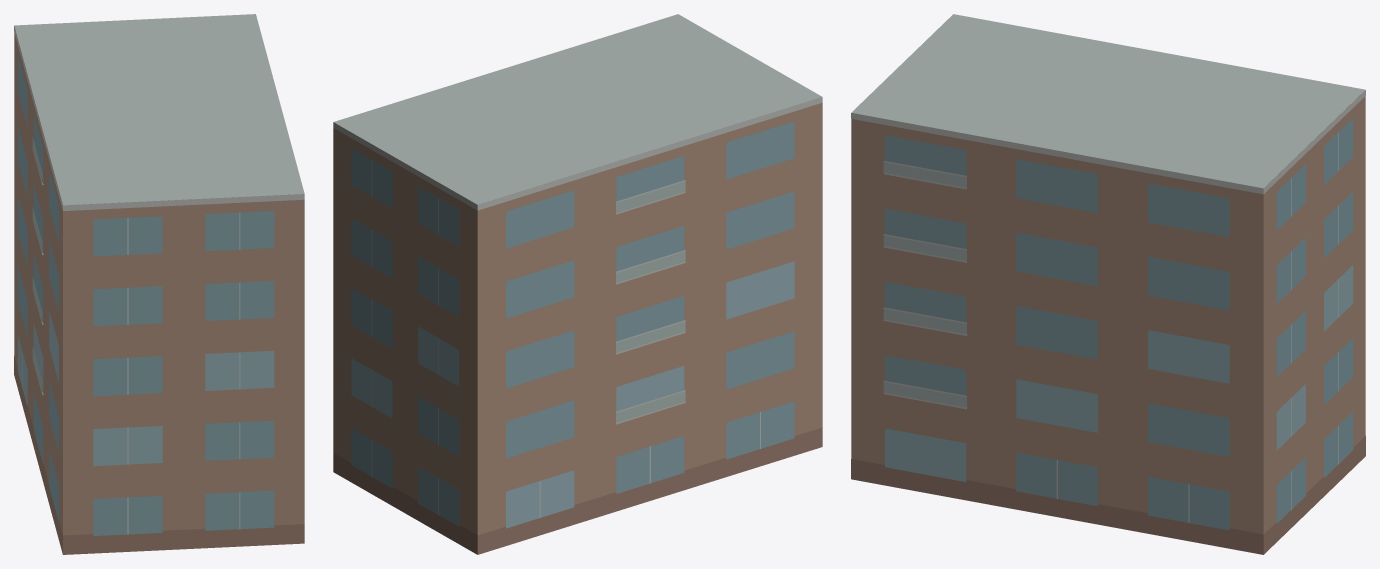
File: survey-upis-32616482.glb
3 views of the same model, side by side, from view 1: azimuth 30°, elevation 25°; view 2: azimuth 150°, elevation 25°; view 3: azimuth 270°, elevation 25° (orthographic). The views are drawn at different scales.
Parts seen in each view (by area): view 1: survey-upis-32616482.tmp; view 2: survey-upis-32616482.tmp; view 3: survey-upis-32616482.tmp.
Part boxes in pixels (bbox=[...]): survey-upis-32616482.tmp: bbox=[14, 14, 304, 554]; survey-upis-32616482.tmp: bbox=[333, 14, 822, 554]; survey-upis-32616482.tmp: bbox=[851, 14, 1365, 554].
Size of the model in its own units: 15.16 by 14.85 by 18.91.
